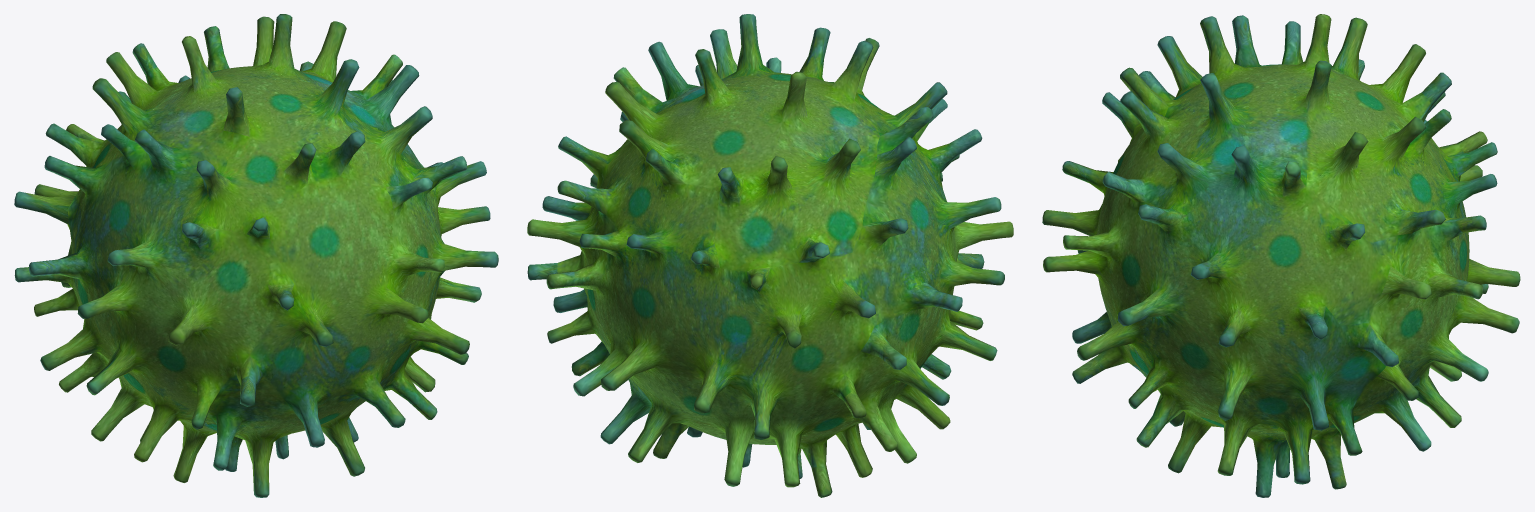
Rendered from virus.fbx.
3 views of the same model, side by side, from view 1: azimuth 30°, elevation 25°; view 2: azimuth 150°, elevation 25°; view 3: azimuth 270°, elevation 25° (orthographic).
Parts seen in each view (by area): view 1: Icosphere; view 2: Icosphere; view 3: Icosphere.
Part boxes in pixels (x1=…): Icosphere: x1=14, y1=14, x2=498, y2=497; Icosphere: x1=527, y1=14, x2=1013, y2=497; Icosphere: x1=1042, y1=14, x2=1520, y2=497.
Size of the model in its own units: 2 by 1.95 by 1.98.
